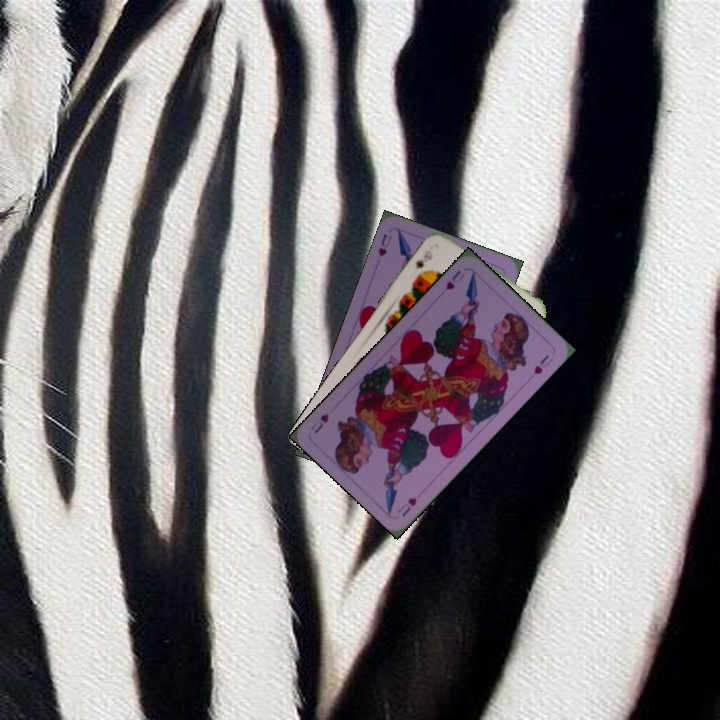HU: (442, 266, 468, 293), (394, 492, 419, 519), (374, 230, 394, 260)
S9: (411, 246, 436, 272)
